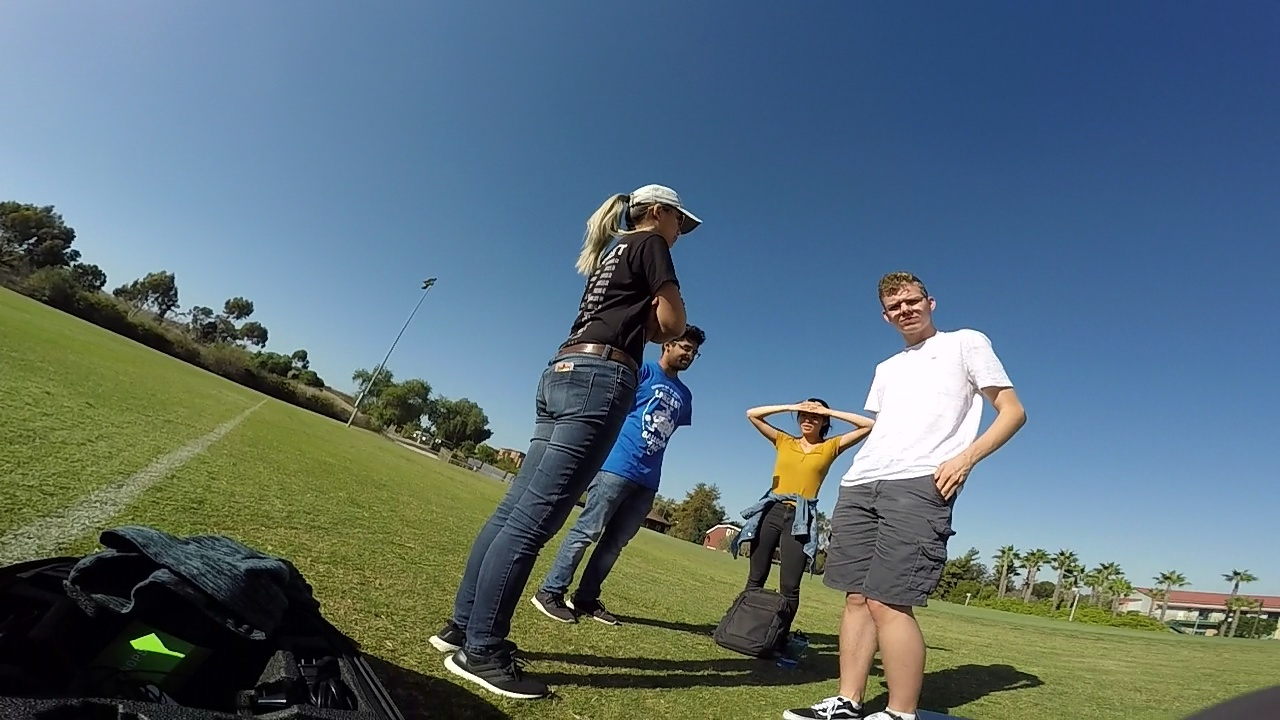person: (421, 172, 701, 687), (795, 261, 1030, 720), (711, 397, 868, 659)
